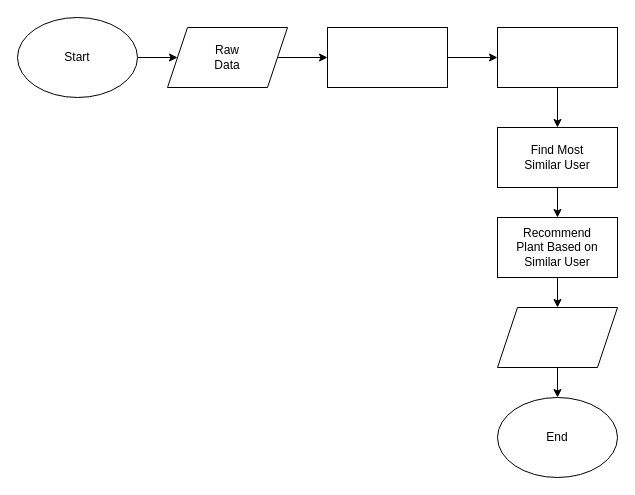
The diagram is 635 pixels wide and 495 high, and some of its shapes have lost their labels. Here are the shapes that lost their labels. From the top down, the centre of each, then its label:
(x=387, y=57): Data Preprocessing
(x=557, y=57): Apply Similarity
(x=557, y=337): Recommendation List
